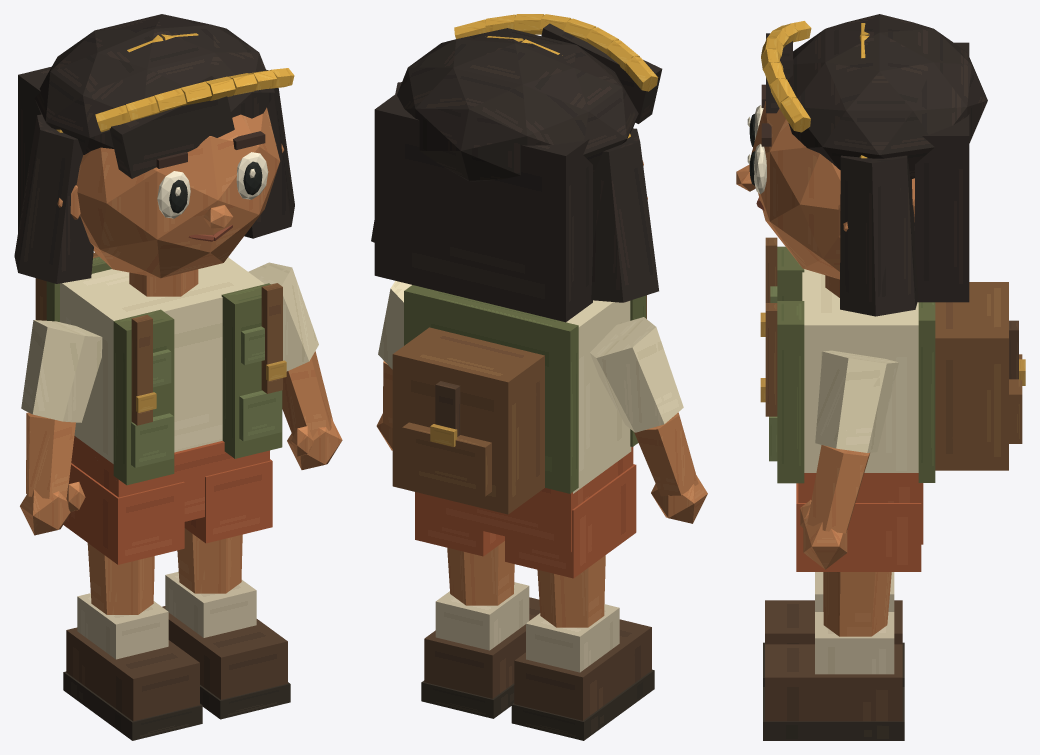
Rendered from iara-v01.gltf.
3 renders of one model, left to right at view 1: azimuth 30°, elevation 25°; view 2: azimuth 150°, elevation 25°; view 3: azimuth 270°, elevation 25°, orthographic. The views are drawn at different scales.
Parts seen in each view (by area): view 1: perna-esquerda, perna-direita, cabeca, cabelo-coroa, tronco, colete, braco-esquerdo, cabelo-lateral, braco-direito, franja, shorts, alcas (+6 smaller); view 2: cabelo-costas, cabelo-coroa, mochila, perna-esquerda, perna-direita, colete-costas, braco-esquerdo, cabelo-lateral, tronco, shorts, faixa-frontal, braco-direito (+1 smaller); view 3: perna-direita, cabelo-coroa, mochila, braco-direito, tronco, cabelo-lateral, cabeca, cabelo-costas, colete, perna-esquerda, colete-costas, faixa-frontal (+4 smaller).
Part boxes in pixels (box(x1,y1,x2,y2)): perna-esquerda: box(63, 463, 202, 740); perna-direita: box(162, 459, 290, 719); cabeca: box(76, 107, 280, 278); cabelo-coroa: box(34, 14, 274, 154); tronco: box(60, 257, 264, 463); colete: box(113, 283, 282, 485); braco-esquerdo: box(20, 320, 102, 535); cabelo-lateral: box(14, 69, 294, 283); braco-direito: box(248, 262, 342, 469); franja: box(109, 76, 234, 178); shorts: box(71, 436, 269, 521); alcas: box(131, 283, 286, 425); cabelo-costas: box(374, 93, 592, 322); cabelo-coroa: box(397, 28, 638, 181); mochila: box(392, 327, 544, 514); perna-esquerda: box(505, 464, 654, 740); perna-direita: box(415, 492, 540, 718); colete-costas: box(404, 285, 578, 493); braco-esquerdo: box(590, 317, 707, 523); cabelo-lateral: box(371, 82, 658, 302); tronco: box(566, 300, 631, 493); shorts: box(415, 447, 633, 552); faixa-frontal: box(454, 14, 658, 91); braco-direito: box(376, 281, 411, 450); perna-direita: box(763, 483, 921, 740); cabelo-coroa: box(788, 14, 987, 179); mochila: box(935, 282, 1025, 470); braco-direito: box(800, 350, 898, 569); tronco: box(802, 269, 918, 472); cabelo-lateral: box(840, 155, 918, 316); cabeca: box(751, 101, 914, 279); cabelo-costas: box(915, 42, 969, 302); colete: box(769, 246, 804, 483); perna-esquerda: box(763, 572, 904, 686); colete-costas: box(918, 302, 935, 482); faixa-frontal: box(761, 21, 811, 132).
Size of the model in its own units: 0.8808 by 1.77 by 0.6933.
1 material, 1 textured.
